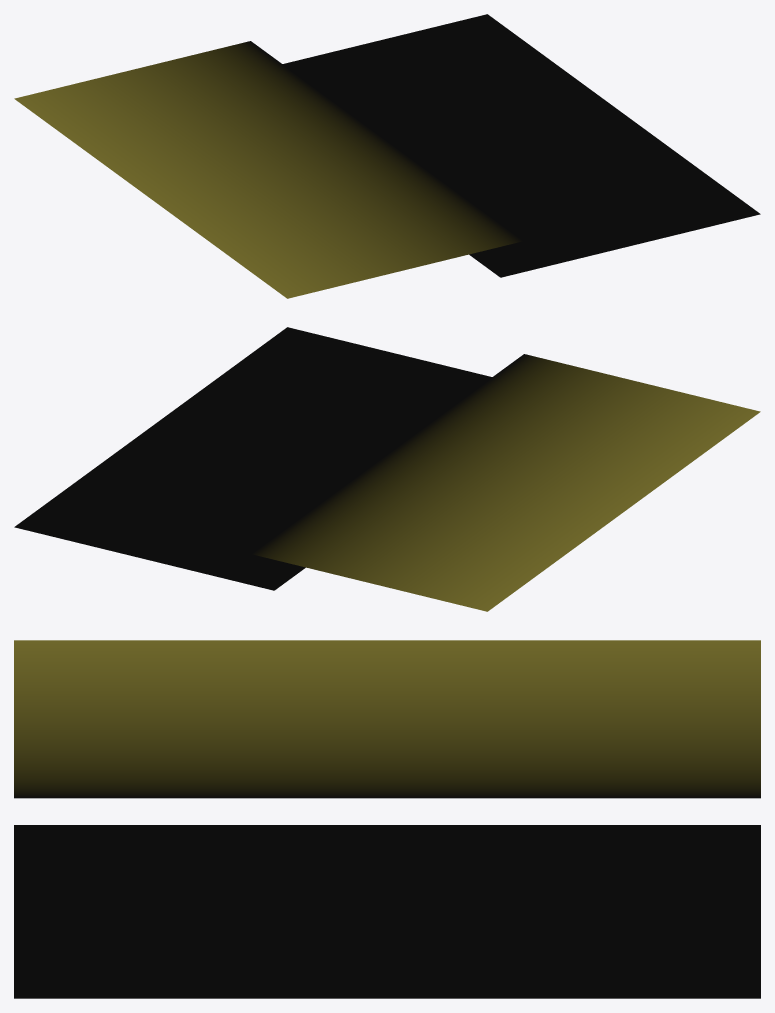
3 views of the same model, one above another, from view 1: azimuth 30°, elevation 25°; view 2: azimuth 150°, elevation 25°; view 3: azimuth 270°, elevation 25° (orthographic). The views are drawn at different scales.
Size of the model in its own units: 1 by 0.0625 by 1.
Materials: 1 (1 with a texture image).
